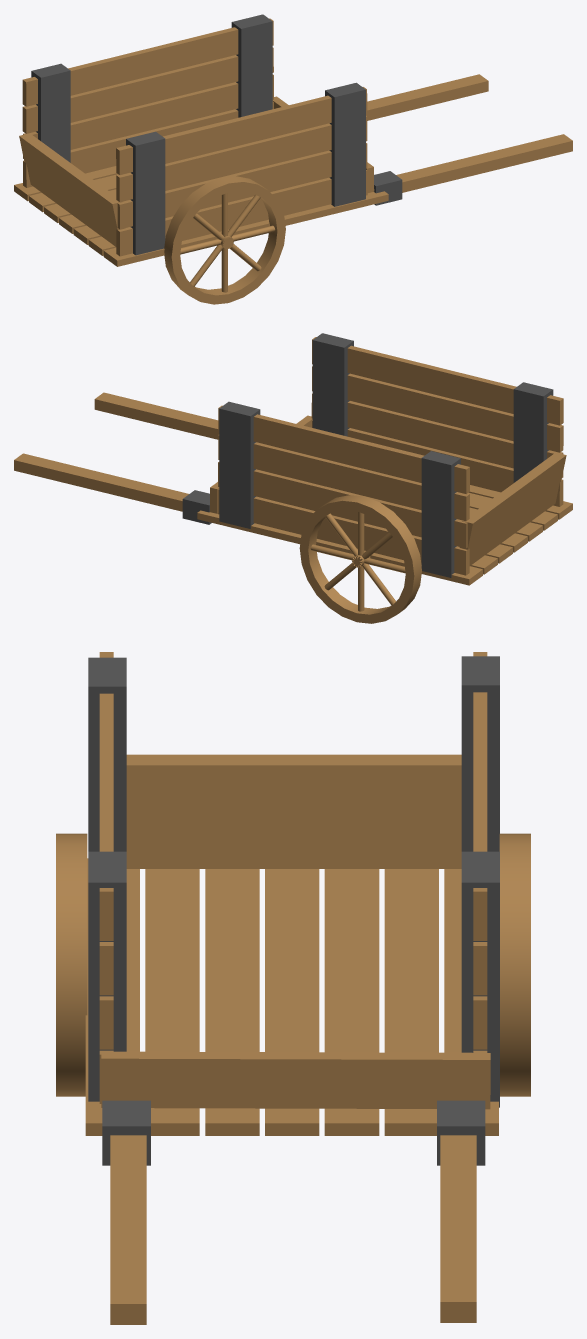
Rendered from Повозка.fbx.
3 renders of one model, top to bottom at view 1: azimuth 30°, elevation 25°; view 2: azimuth 150°, elevation 25°; view 3: azimuth 270°, elevation 25°, orthographic. The views are drawn at different scales.
Visible parts, largest first — view 1: Cube.032; view 2: Cube.032; view 3: Cube.032.
Boxes of the visible parts, x1,y1,x2,y2 form: Cube.032: (14, 14, 572, 304); Cube.032: (14, 333, 572, 623); Cube.032: (56, 652, 530, 1324).
Size of the model in its own units: 750 by 267 by 334.
